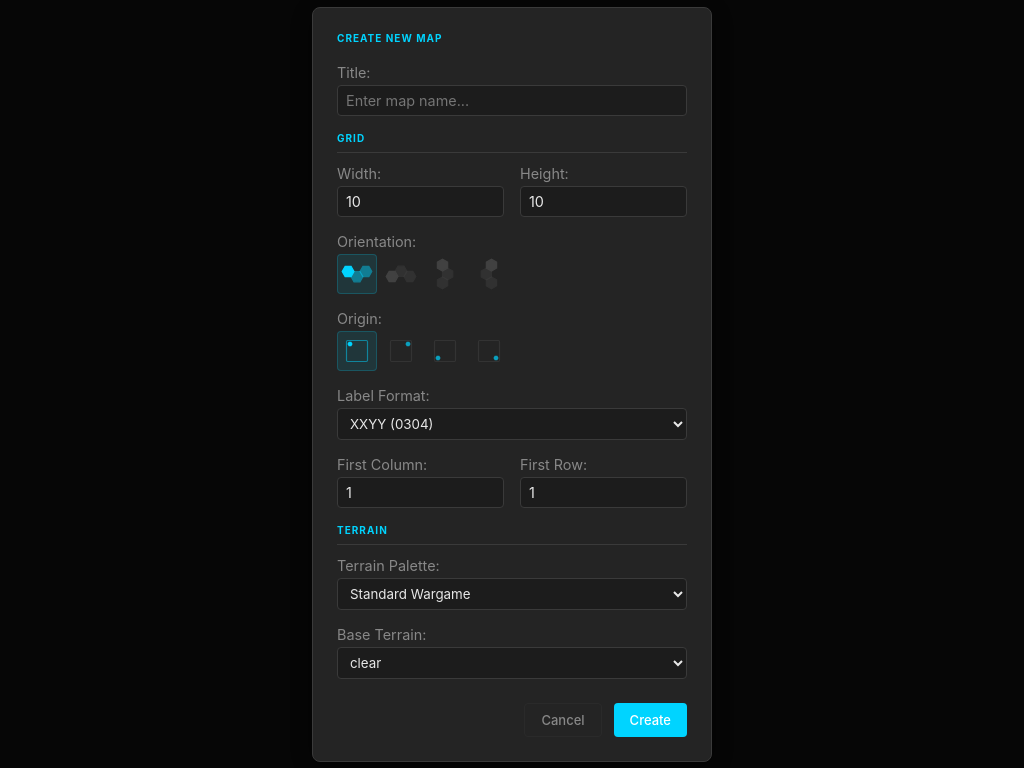
Scenario: NewMapDialog › updates base terrain dropdown when palette changes
Select "Blank" in the dropdown labelled "Terrain Palette:": (512, 594) x1=337 y1=578 x2=687 y2=610
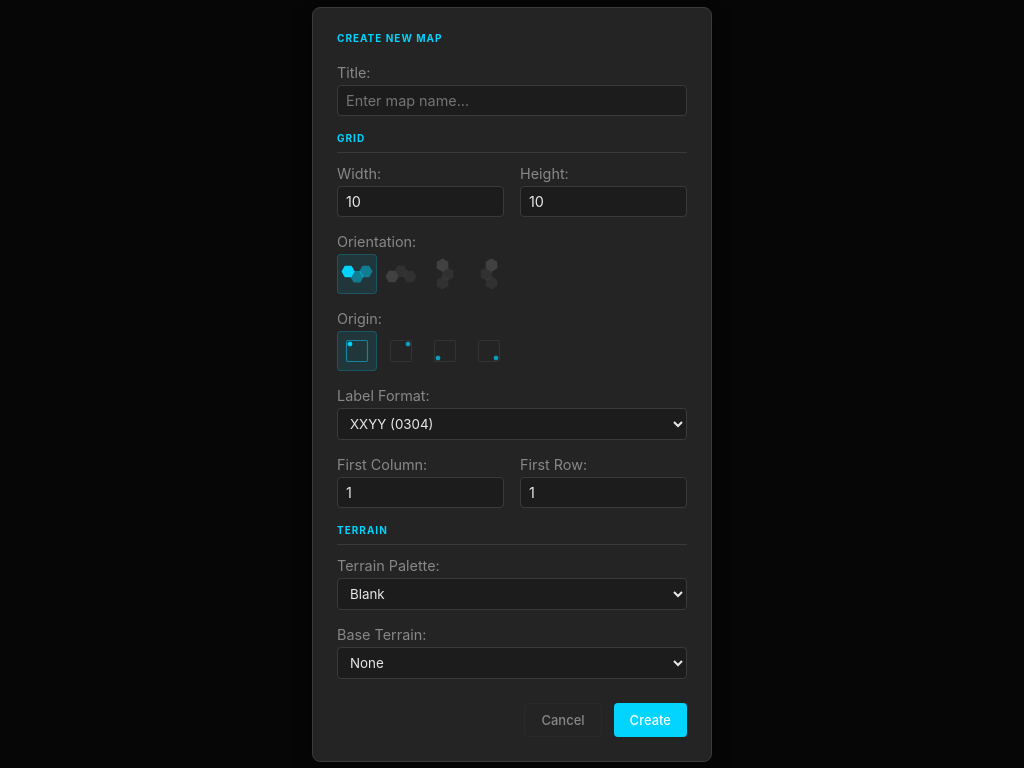
Result: the dropdown labelled "Base Terrain:" shows "None" at x1=337 y1=646 x2=687 y2=678
